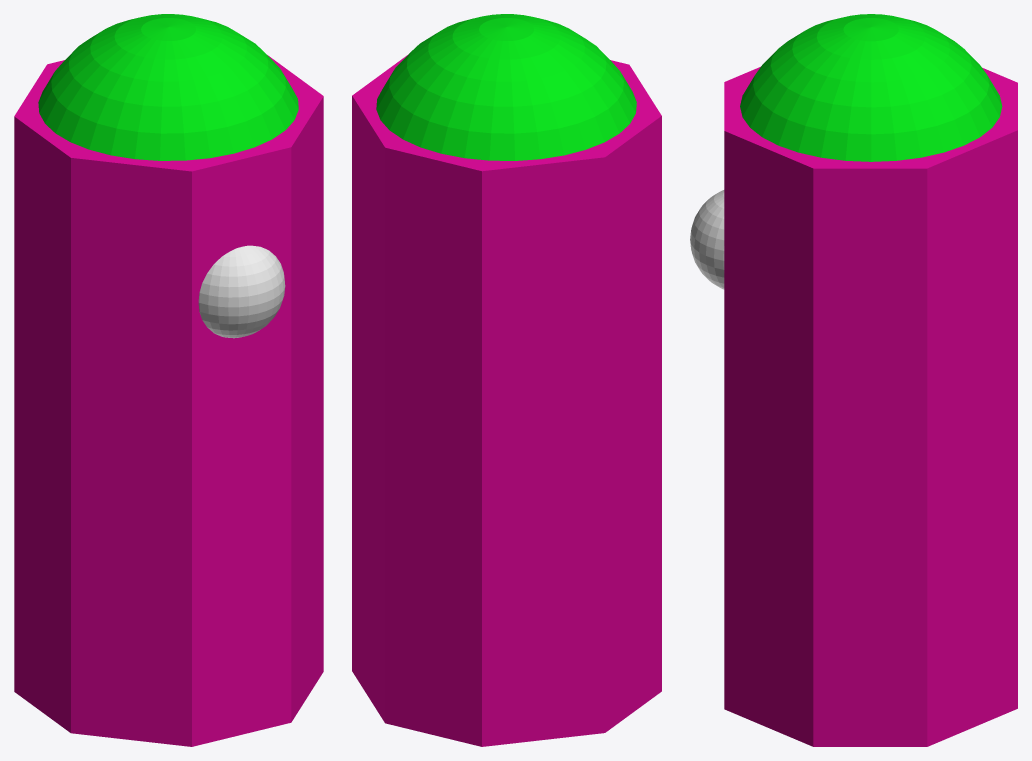
Rendered from arcade.glb.
3 renders of one model, left to right at view 1: azimuth 30°, elevation 25°; view 2: azimuth 150°, elevation 25°; view 3: azimuth 270°, elevation 25°, orthographic.
Visible parts, largest first — view 1: Cube, Sphere, Sphere.001; view 2: Cube, Sphere; view 3: Cube, Sphere, Sphere.001.
Part boxes in pixels (x1,y1,x2,y2): Cube: [14, 55, 323, 746]; Sphere: [38, 14, 298, 160]; Sphere.001: [198, 245, 285, 338]; Cube: [352, 54, 661, 746]; Sphere: [376, 14, 636, 160]; Cube: [724, 66, 1017, 746]; Sphere: [740, 14, 1002, 161]; Sphere.001: [690, 190, 724, 289].
Bounding box in the file's own units: 1.41 × 3.48 × 1.57.
